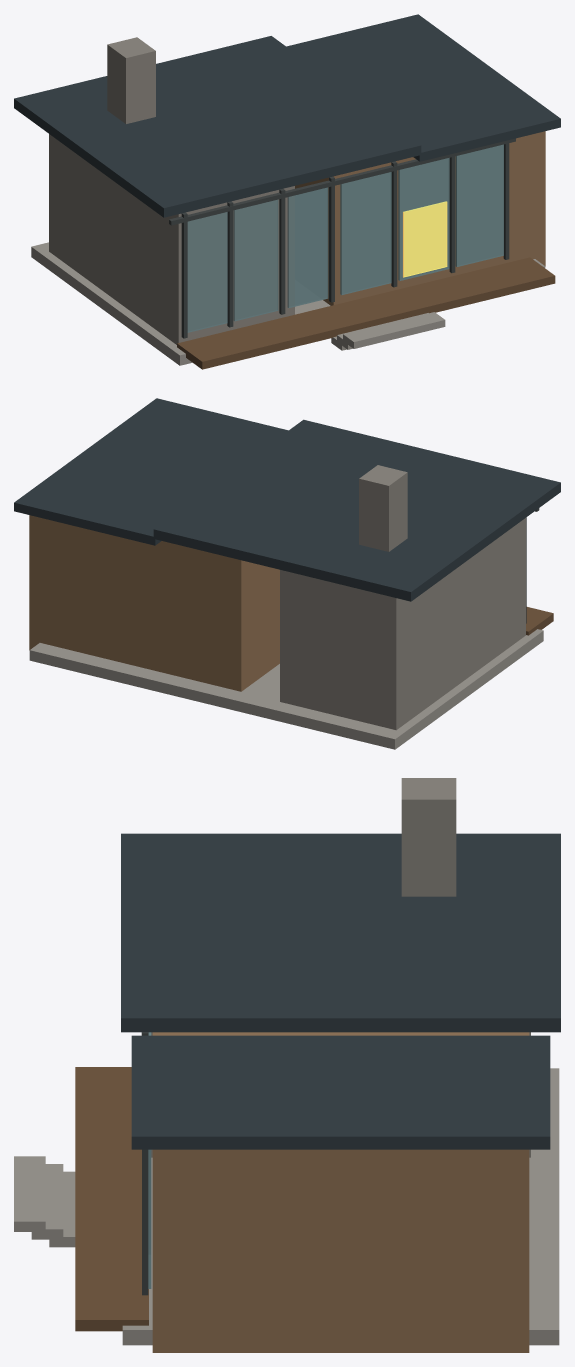
The model's file is building-modern-mountain-house.glb.
3 renders of one model, top to bottom at view 1: azimuth 30°, elevation 25°; view 2: azimuth 150°, elevation 25°; view 3: azimuth 270°, elevation 25°, orthographic. The views are drawn at different scales.
Visible parts, largest first — view 1: building-modern-mountain-house; view 2: building-modern-mountain-house; view 3: building-modern-mountain-house.
Boxes of the visible parts, box(x1,y1,x2,y2) form: building-modern-mountain-house: box(14, 14, 560, 369); building-modern-mountain-house: box(14, 398, 560, 749); building-modern-mountain-house: box(14, 778, 560, 1352).
Bounding box in the file's own units: 9.65 × 5.25 × 7.77.
